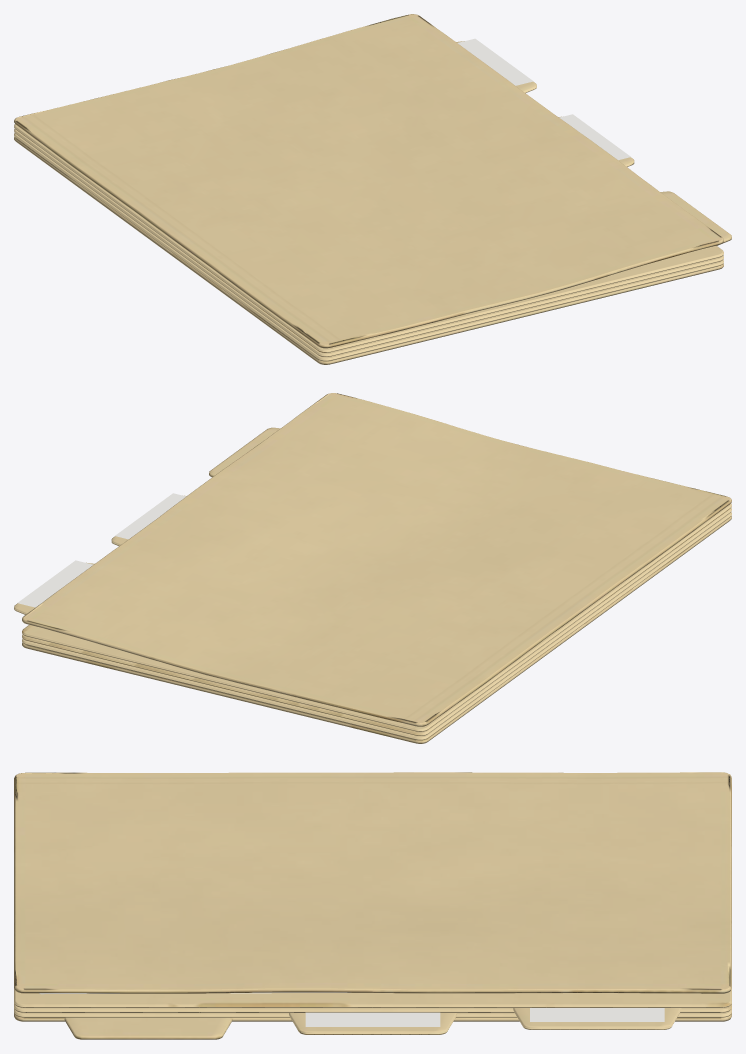
File: alta_lex_folder_web.glb
3 renders of one model, top to bottom at view 1: azimuth 30°, elevation 25°; view 2: azimuth 150°, elevation 25°; view 3: azimuth 270°, elevation 25°, orthographic. The views are drawn at different scales.
Parts seen in each view (by area): view 1: Folder_Cover, Folder_Divider_3, Folder_Divider_1, Folder_Divider_2, Folder_Back, TabLabel_1, TabLabel_2, Tab_3; view 2: Folder_Cover, Folder_Divider_3, Folder_Divider_1, Folder_Divider_2, Folder_Back, TabLabel_1, TabLabel_2, Tab_3; view 3: Folder_Cover, Folder_Divider_3, Tab_3, Folder_Divider_2, TabLabel_2, Folder_Divider_1, TabLabel_1, Tab_1, Tab_2, Folder_Back.
Boxes of the visible parts, x1=… form: Folder_Cover: x1=14, y1=14, x2=723, y2=348; Folder_Divider_3: x1=14, y1=124, x2=723, y2=352; Folder_Divider_1: x1=14, y1=133, x2=723, y2=361; Folder_Divider_2: x1=14, y1=129, x2=723, y2=356; Folder_Back: x1=14, y1=137, x2=723, y2=364; TabLabel_1: x1=457, y1=38, x2=533, y2=85; TabLabel_2: x1=559, y1=114, x2=630, y2=160; Tab_3: x1=660, y1=191, x2=731, y2=245; Folder_Cover: x1=22, y1=393, x2=731, y2=726; Folder_Divider_3: x1=22, y1=503, x2=731, y2=731; Folder_Divider_1: x1=22, y1=512, x2=731, y2=740; Folder_Divider_2: x1=22, y1=508, x2=731, y2=735; Folder_Back: x1=22, y1=516, x2=731, y2=743; TabLabel_1: x1=17, y1=560, x2=93, y2=607; TabLabel_2: x1=115, y1=493, x2=186, y2=539; Tab_3: x1=209, y1=427, x2=280, y2=477; Folder_Cover: x1=14, y1=772, x2=731, y2=993; Folder_Divider_3: x1=14, y1=988, x2=731, y2=1007; Tab_3: x1=64, y1=1017, x2=232, y2=1039; Folder_Divider_2: x1=14, y1=1003, x2=731, y2=1012; TabLabel_2: x1=305, y1=1012, x2=440, y2=1026; Folder_Divider_1: x1=14, y1=1008, x2=731, y2=1017; TabLabel_1: x1=530, y1=1008, x2=664, y2=1021; Tab_1: x1=513, y1=1008, x2=681, y2=1029; Tab_2: x1=289, y1=1013, x2=456, y2=1034; Folder_Back: x1=14, y1=1012, x2=731, y2=1021.
Bounding box in the file's own units: 0.26 × 0.0164 × 0.32.
Materials: 3 (2 with a texture image).
